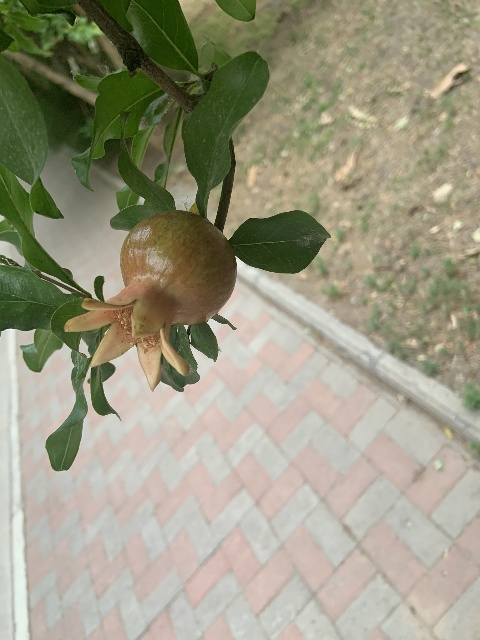early-fruit: (64, 210, 239, 392)
